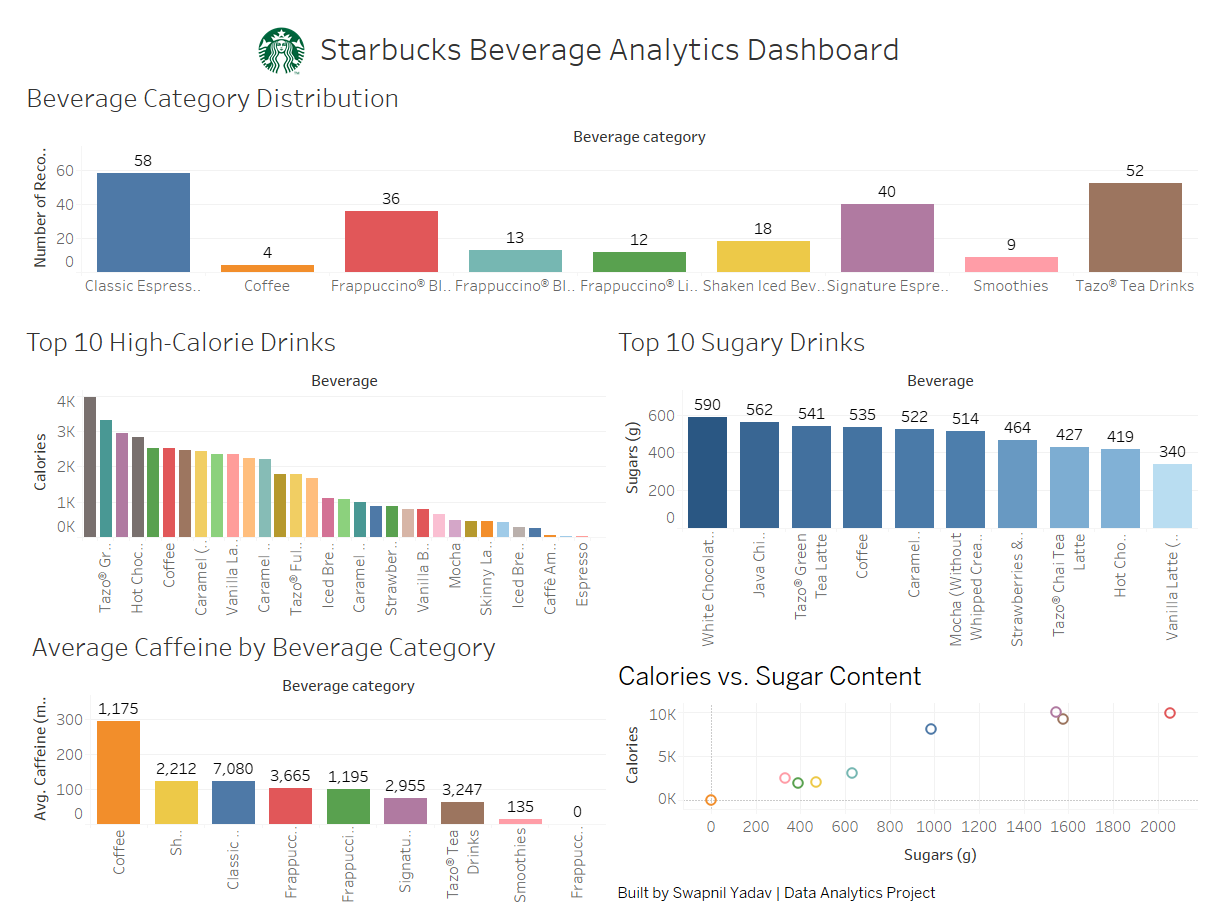

Layout of this report page (visuals, bound fields, positions):
{"tool":"tableau","page":{"name":"Dashboard 1","canvas":[1200,900],"ordinal":0},"visuals":[{"type":"image","param":"C:/Users/swapn/Downloads/starbucks-logo-png-transparent.png","box":[234,5,74,50]},{"type":"title","box":[8,8,1184,48]},{"type":"worksheet","title":"Beverage Category Distribution","mark":"Automatic","rows":["Calculation_741405092009578496"],"cols":["Beverage_category"],"box":[8,56,1184,262.6]},{"type":"worksheet","title":"Top 10 High-Calorie Drinks","mark":"Automatic","rows":["Calories"],"cols":["Beverage"],"box":[8,318.6,592,317.8]},{"type":"worksheet","title":"Top 10 Sugary Drinks","mark":"Automatic","rows":["Sugars (g)"],"cols":["Beverage"],"box":[600,318.6,592,317.8]},{"type":"worksheet","title":" Average Caffeine by Beverage Category","mark":"Automatic","rows":["Caffeine (mg)"],"cols":["Beverage_category"],"box":[8,636.4,592,255.6]},{"type":"worksheet","title":"Calories vs. Sugars","mark":"Automatic","rows":["Calories"],"cols":["Sugars (g)"],"box":[600,636.4,592,223.5]},{"type":"text","box":[600,859.9,592,32.1]}]}

Visuals, with their boxes in screenshot pixels (x1, y1, x2, y2), scaled from the page's 1200x900 canvas onto the 1221x915 screenshot:
image: crop(238, 5, 313, 56)
title: crop(8, 8, 1213, 57)
"Beverage Category Distribution" worksheet: crop(8, 57, 1213, 324)
"Top 10 High-Calorie Drinks" worksheet: crop(8, 324, 610, 647)
"Top 10 Sugary Drinks" worksheet: crop(610, 324, 1213, 647)
" Average Caffeine by Beverage Category" worksheet: crop(8, 647, 610, 907)
"Calories vs. Sugars" worksheet: crop(610, 647, 1213, 874)
text: crop(610, 874, 1213, 907)
